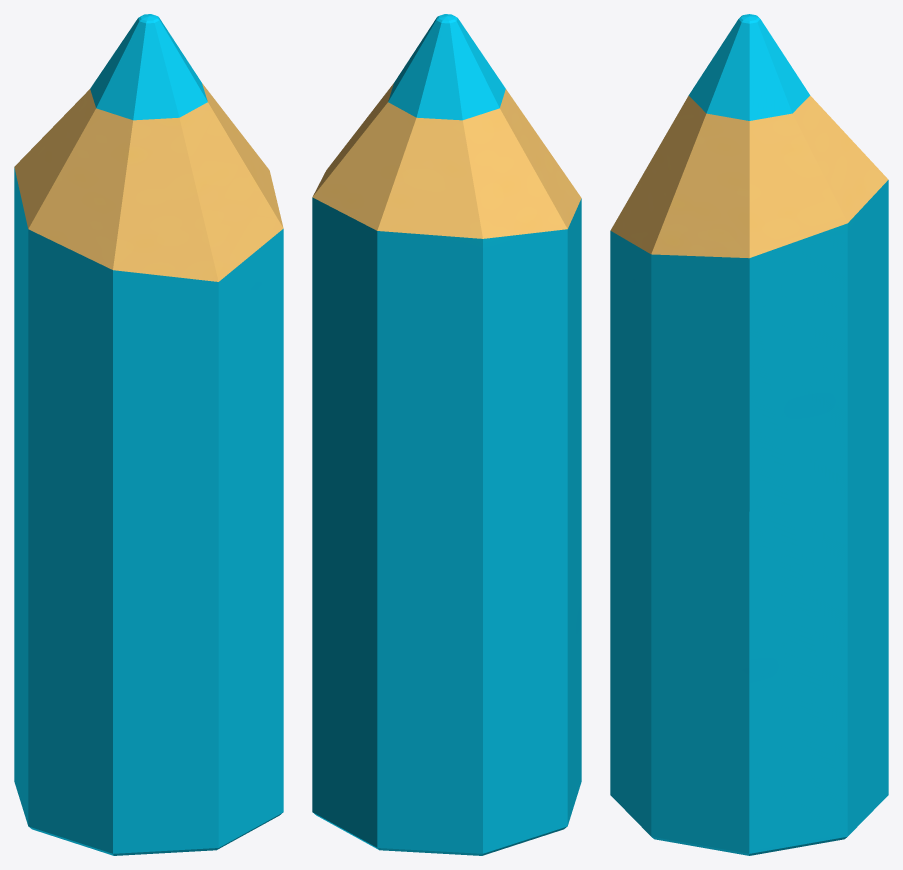
Rendered from PenSmall_1.fbx.
3 renders of one model, left to right at view 1: azimuth 30°, elevation 25°; view 2: azimuth 150°, elevation 25°; view 3: azimuth 270°, elevation 25°, orthographic.
Visible parts, largest first — view 1: Cylinder; view 2: Cylinder; view 3: Cylinder.
Part boxes in pixels (x1=…): Cylinder: x1=14, y1=14, x2=283, y2=855; Cylinder: x1=312, y1=14, x2=581, y2=855; Cylinder: x1=610, y1=14, x2=888, y2=855.
Bounding box in the file's own units: 129 × 400 × 129.
